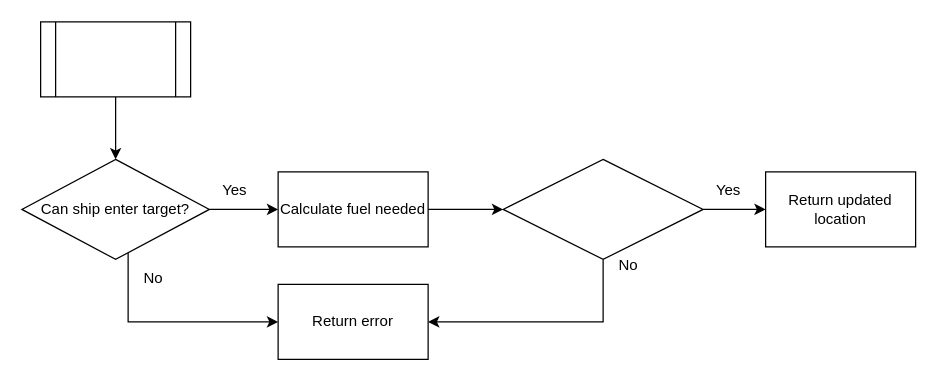
Image size: 938x381. Some labels were removed from this diagram. Each missing label, with the centre of its shape:
needed fuel == c urrent fuel?: point (602, 208)
travel(location, target): point (115, 59)
